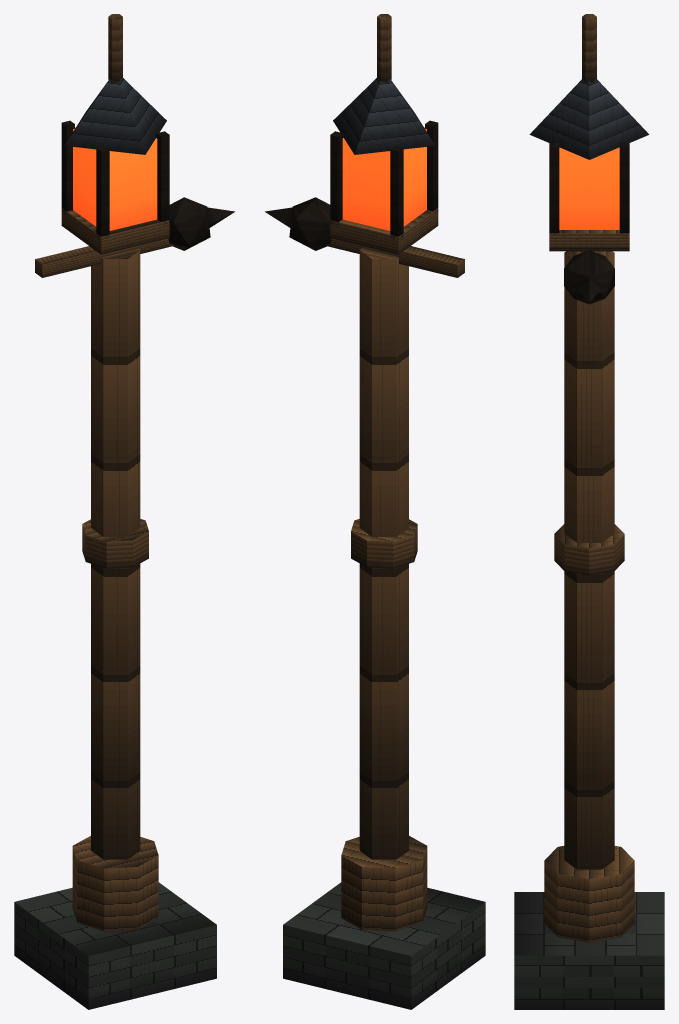
Rendered from streetlamp.gltf.
3 renders of one model, left to right at view 1: azimuth 30°, elevation 25°; view 2: azimuth 150°, elevation 25°; view 3: azimuth 270°, elevation 25°, orthographic.
Parts seen in each view (by area): view 1: streetlamp; view 2: streetlamp; view 3: streetlamp.
Part boxes in pixels (bbox=[...]): streetlamp: bbox=[14, 14, 234, 1009]; streetlamp: bbox=[265, 14, 485, 1009]; streetlamp: bbox=[514, 14, 664, 1009].
Size of the model in its own units: 0.46 by 2.12 by 0.3.
Materials: 1 (1 with a texture image).
